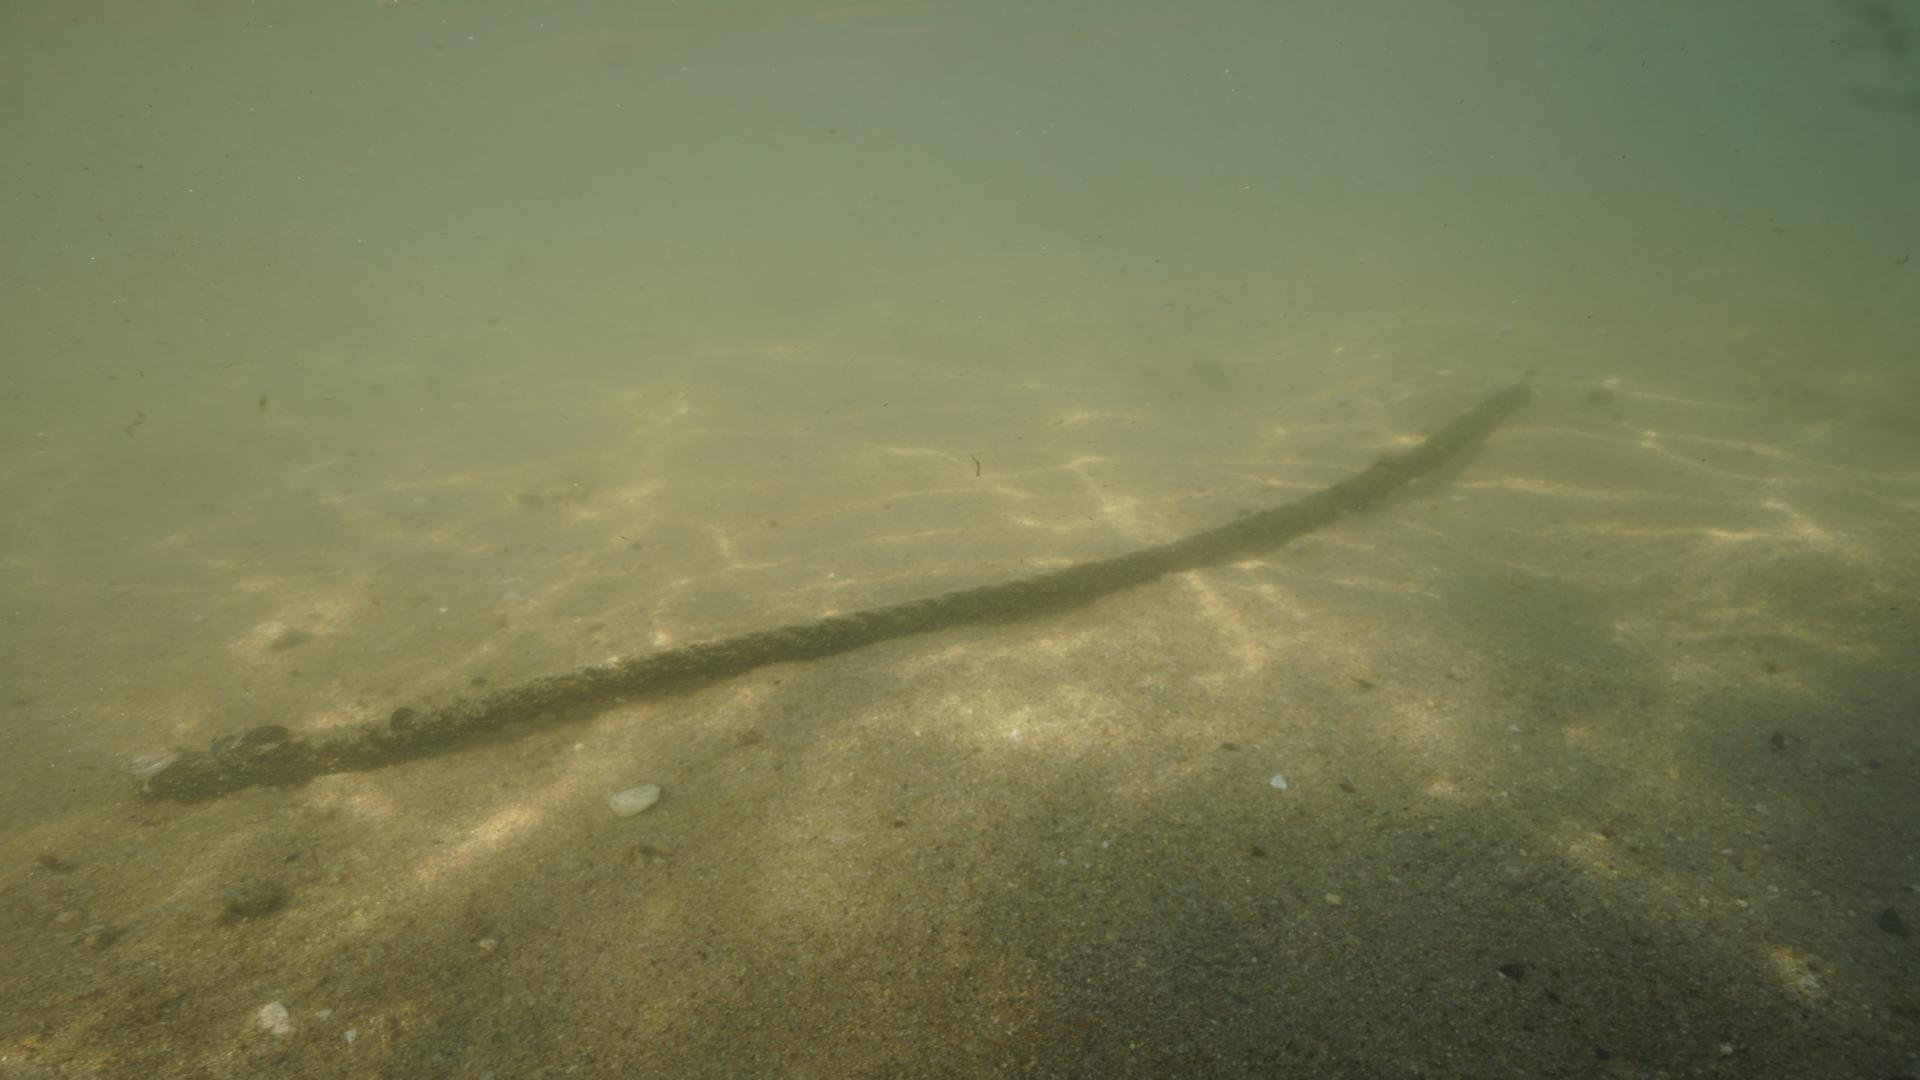wood: (131, 375, 1527, 804)
